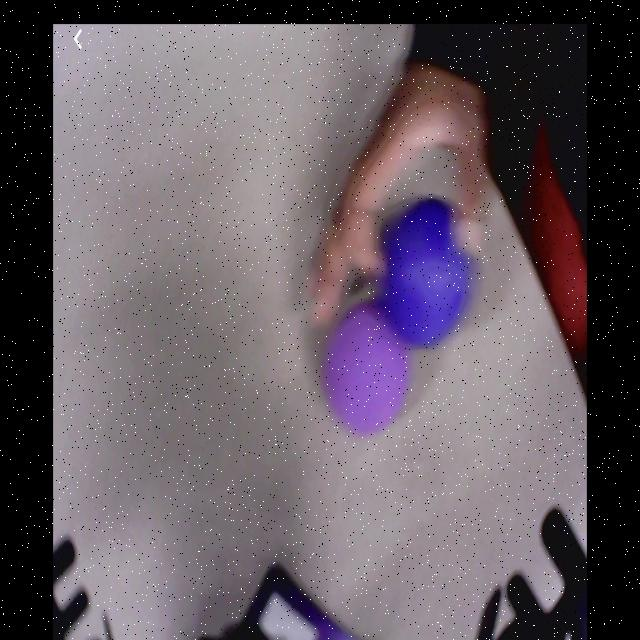ball: (382, 201, 475, 350), (328, 306, 409, 434)
